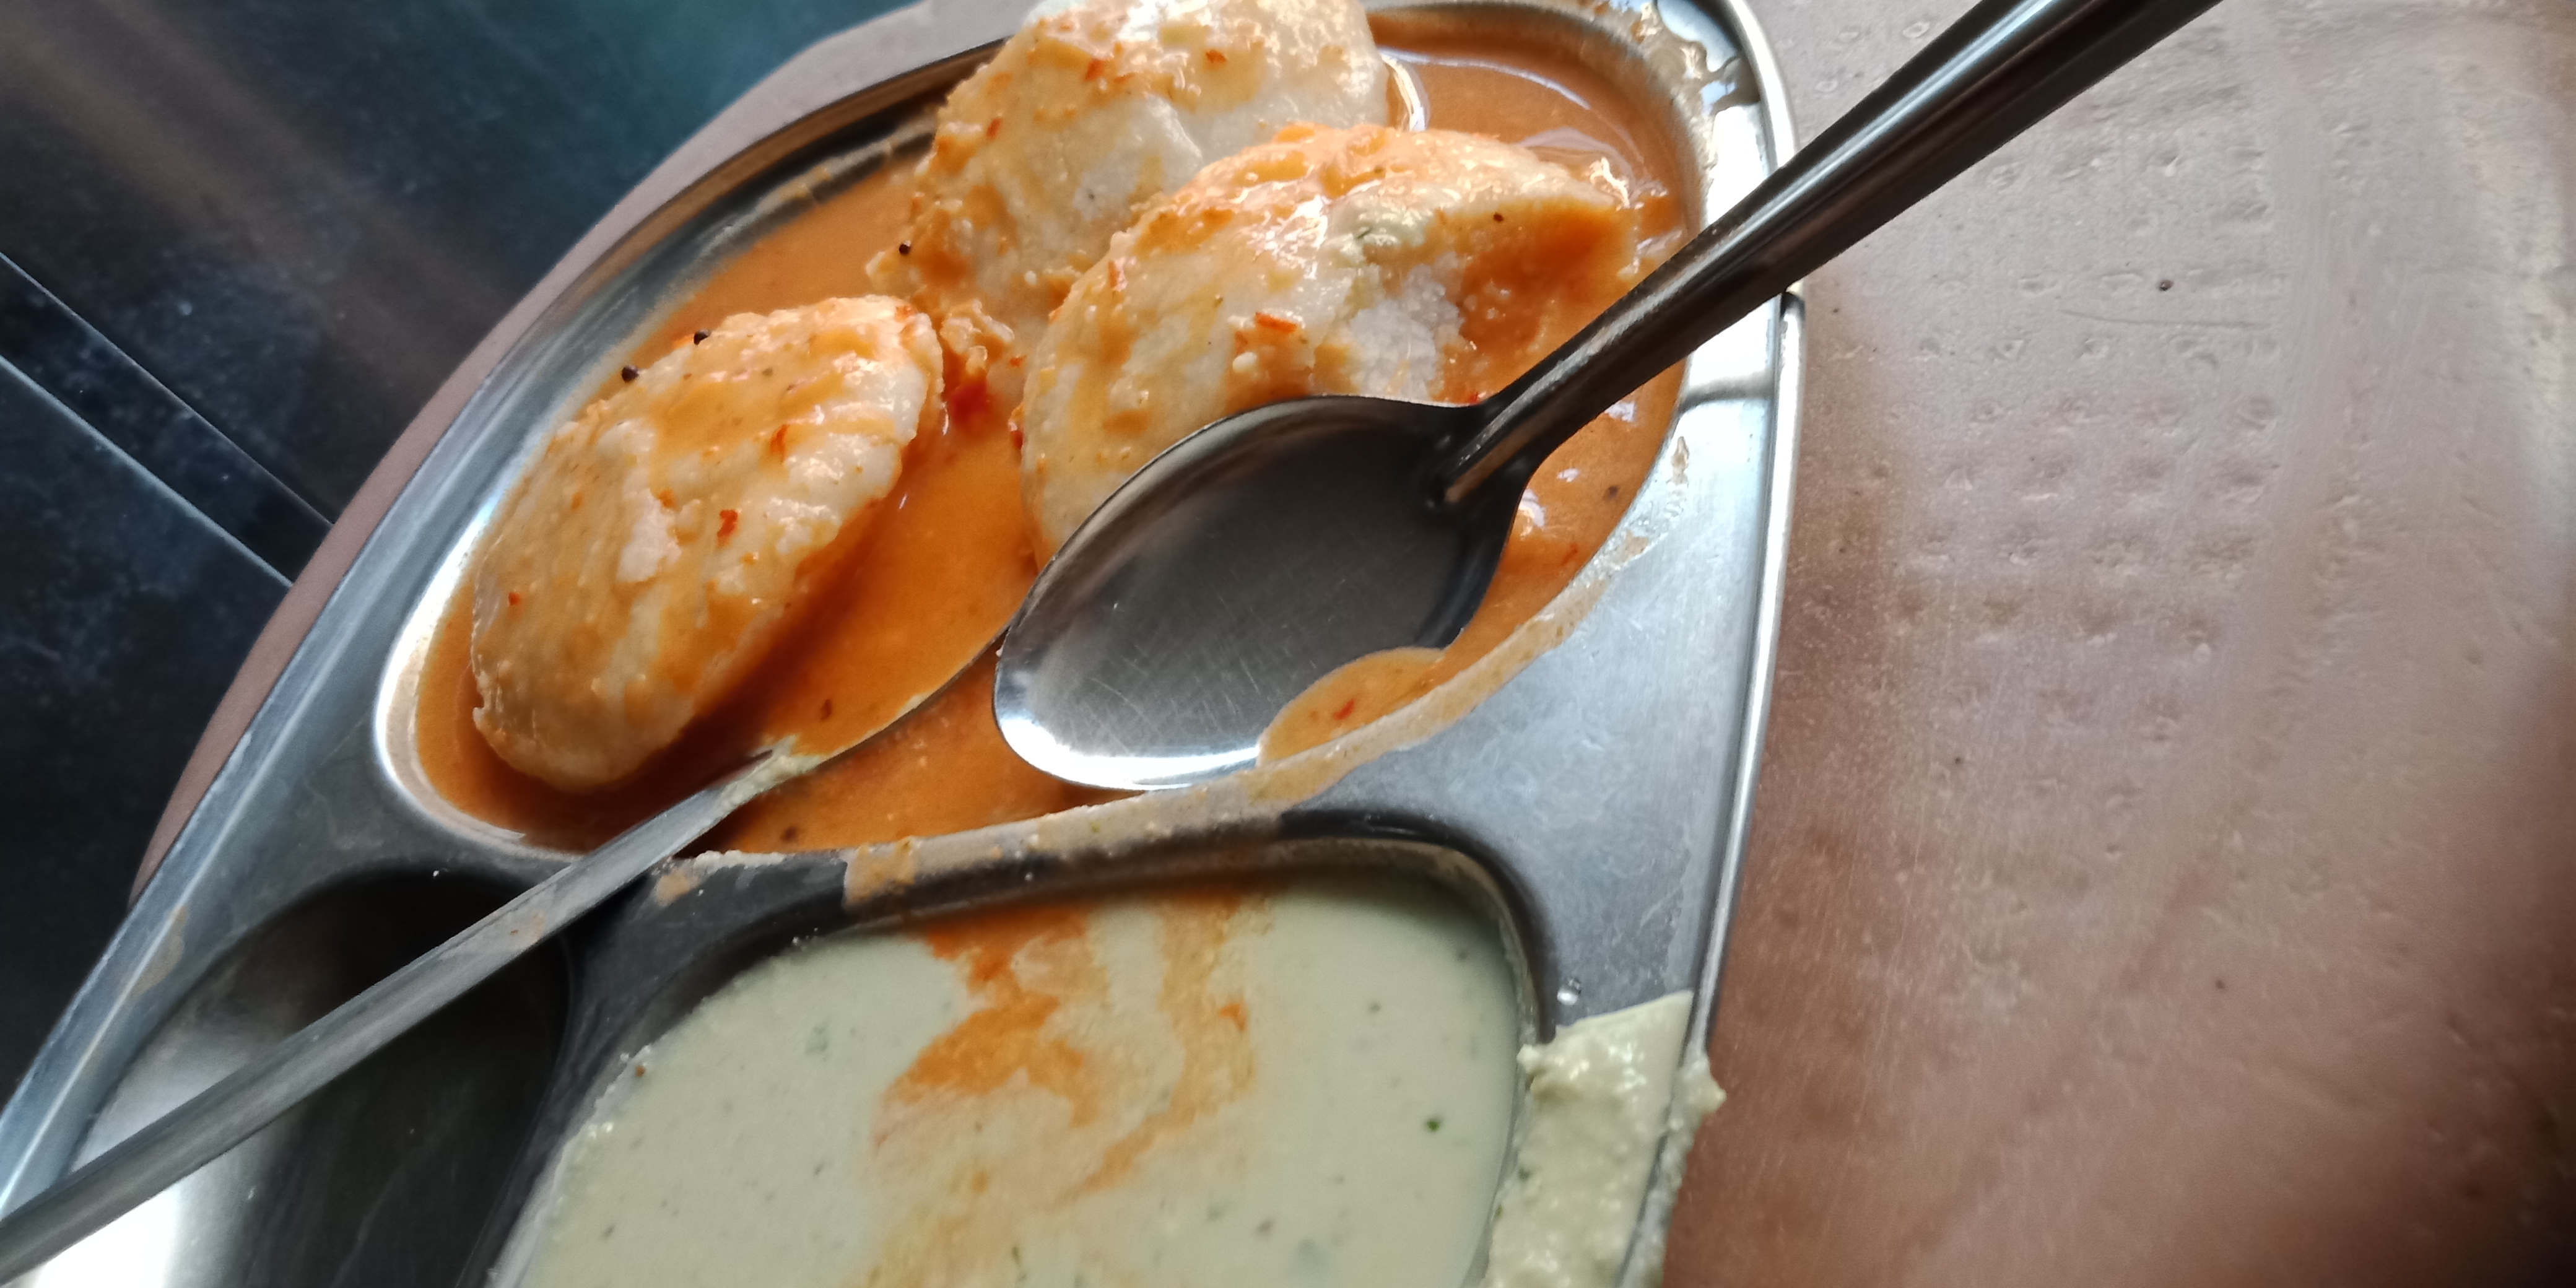food: (402, 3, 1732, 1285)
